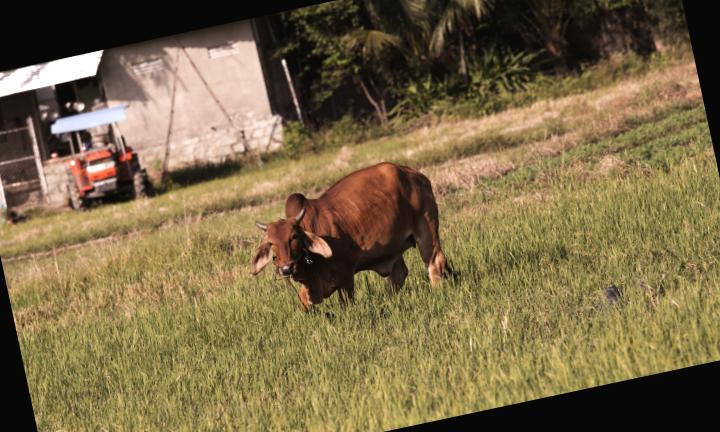Brahman: (251, 162, 446, 311)
